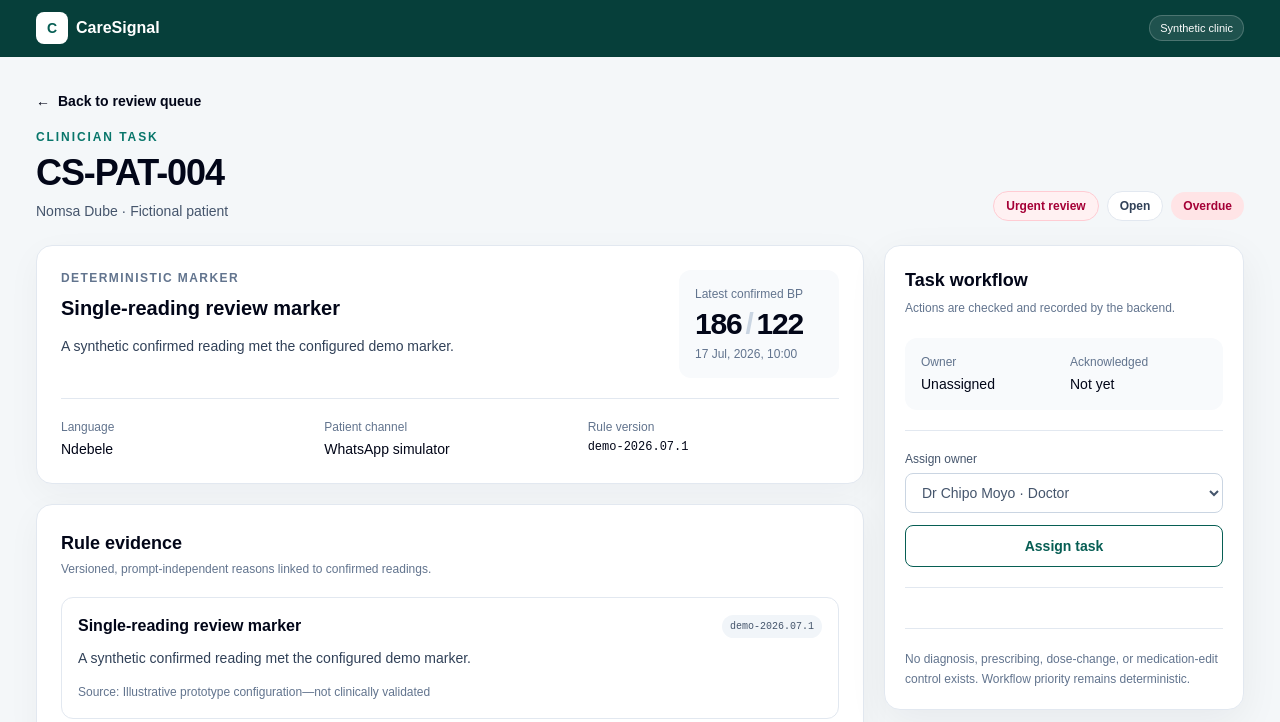
Test case: ClinicianTaskDetailPage › completes assignment, acknowledgement, review, and resolution controls
This screenshot has width=1280, height=722.
Click the button "Assign task": x=1064, y=546 [905,525,1223,567]
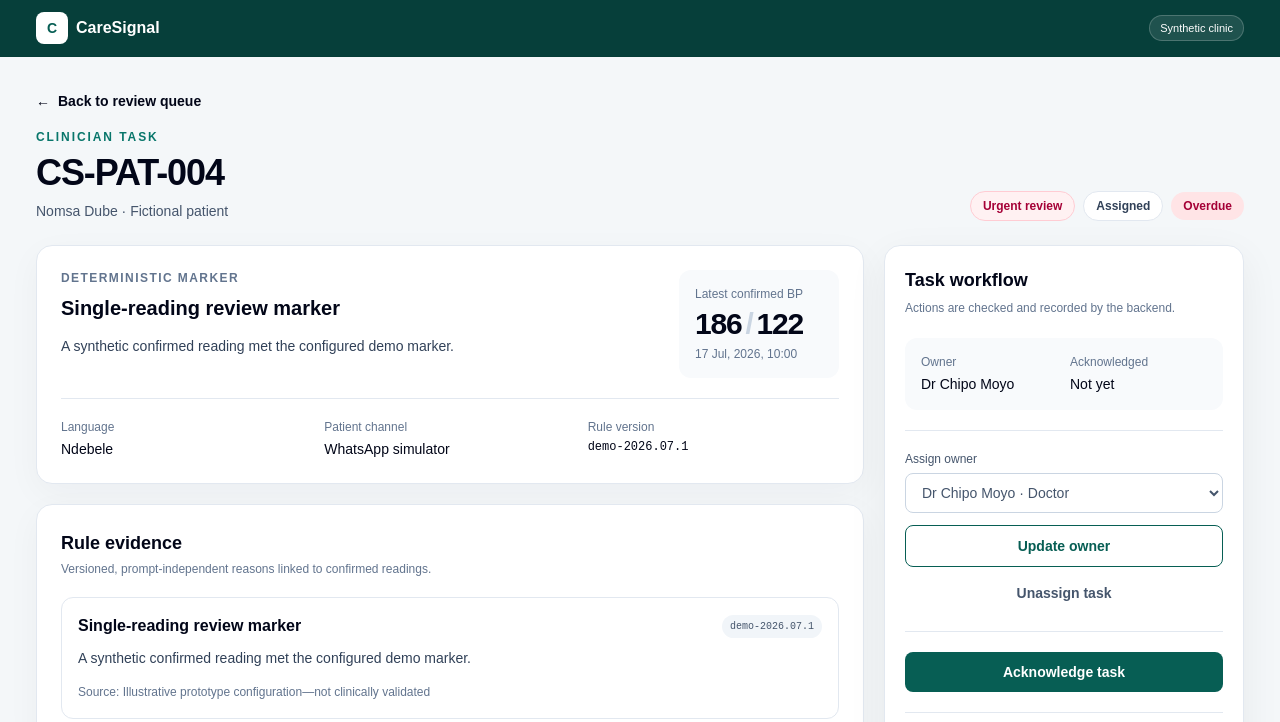
Expected: the button "Acknowledge task" is shown
Click the button "Acknowledge task": x=1064, y=672 [905,652,1223,692]
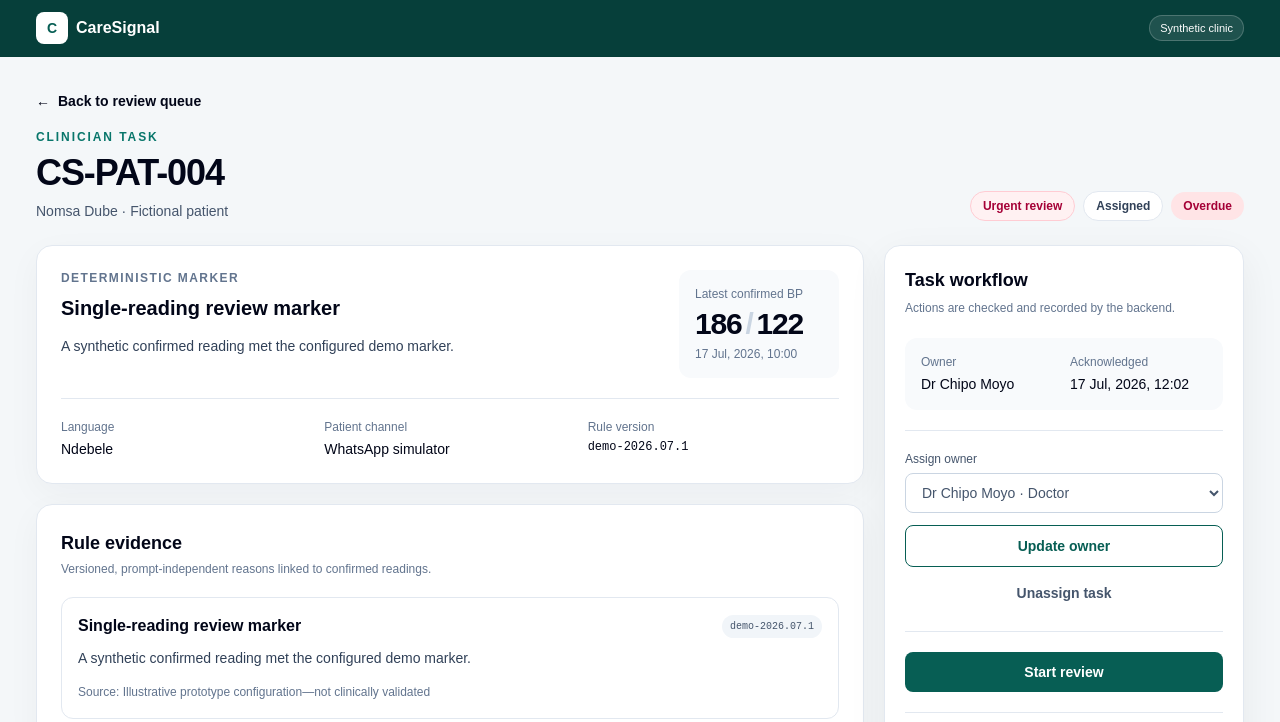
Expected: the button "Start review" is shown
Click the button "Start review": x=1064, y=672 [905,652,1223,692]
(page scrolled)
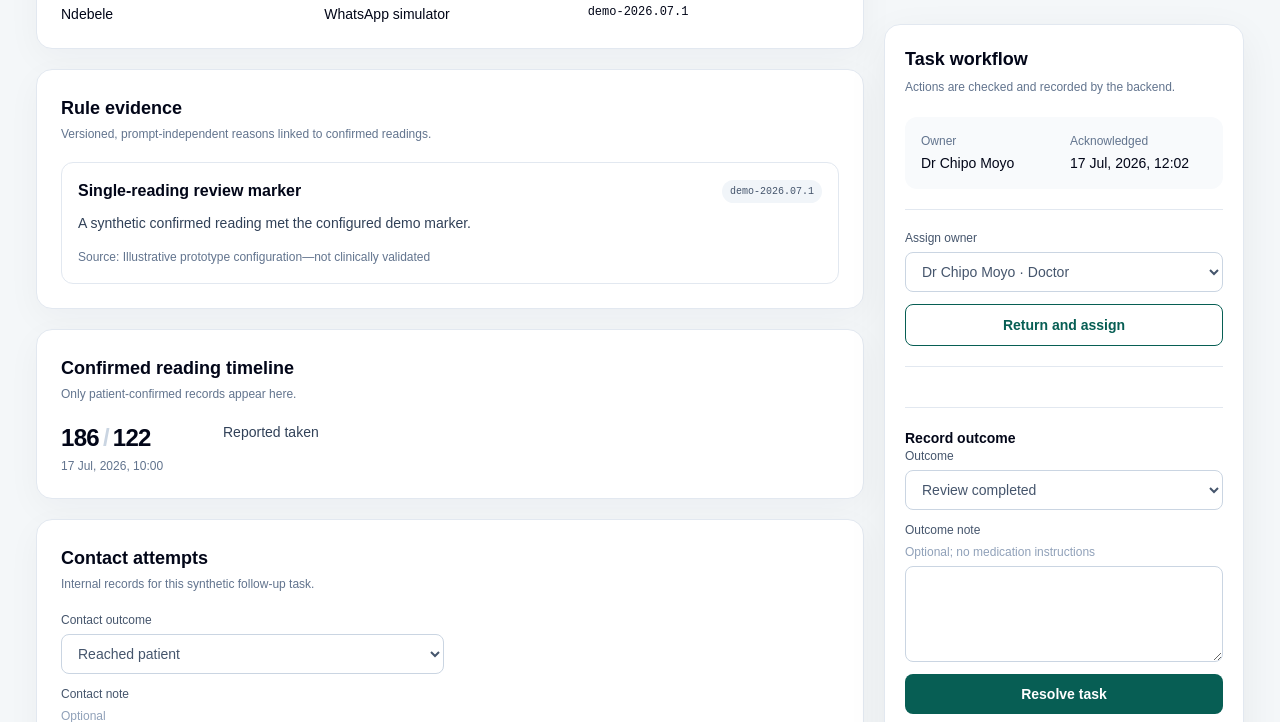
Expected: the button "Resolve task" is shown, [905,674,1223,714]
In the text box labelled "Outcome note Optional; no medication instructions": x=1064, y=614 [905,566,1223,662], type "Synthetic follow-up arranged."
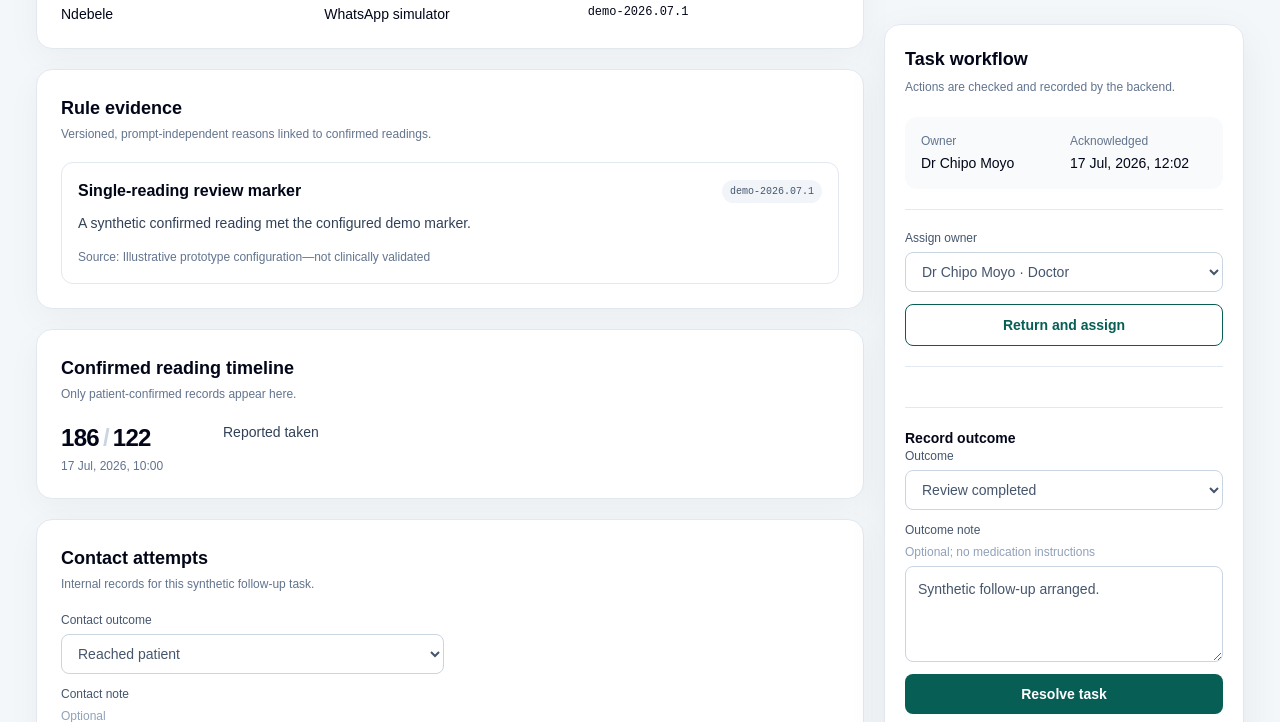
Select "Follow-up planned" in the dropdown labelled "Outcome": x=1064, y=490 [905,470,1223,510]
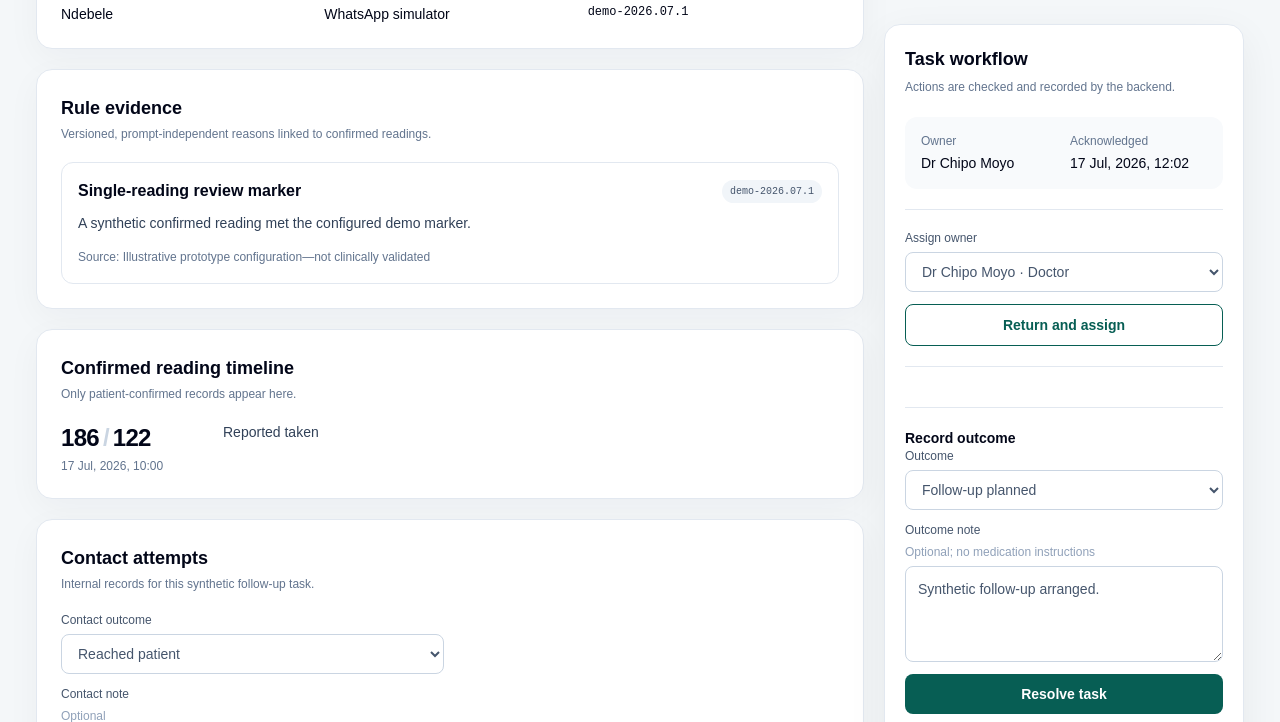
Click the button "Resolve task": x=1064, y=694 [905,674,1223,714]
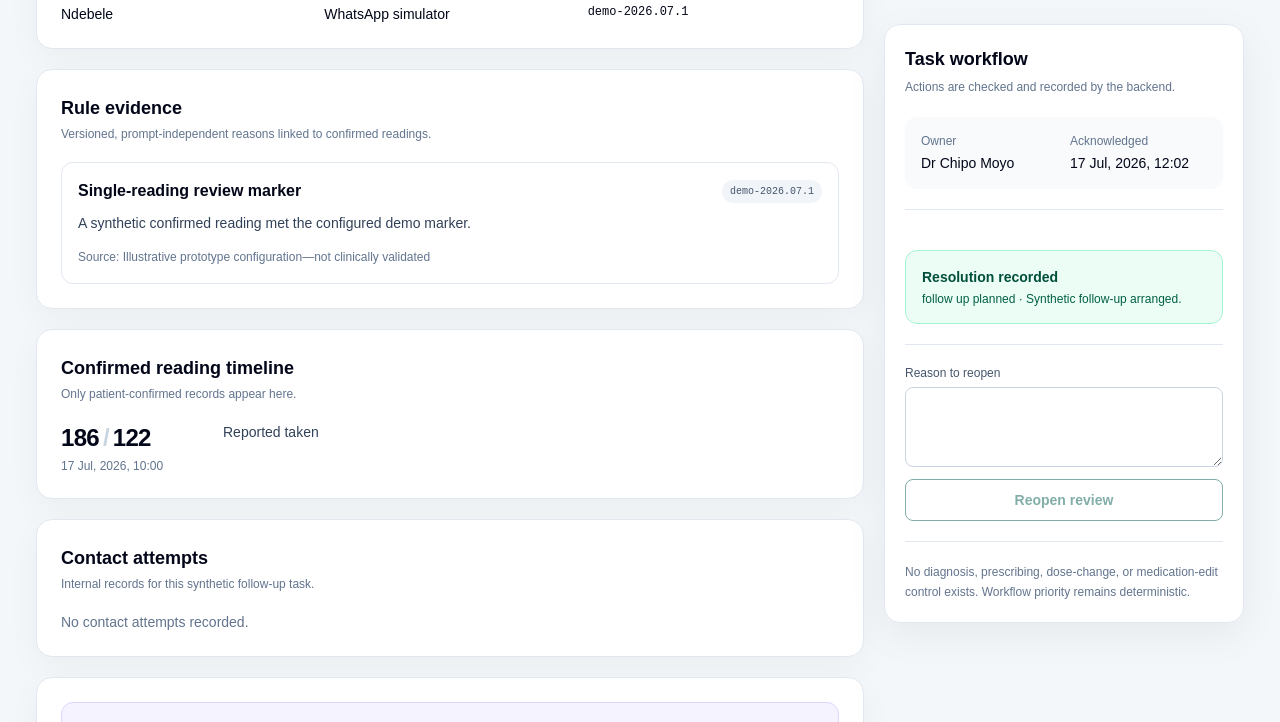
Expected: the text "Resolution recorded" is shown, [922,269,1058,285]
